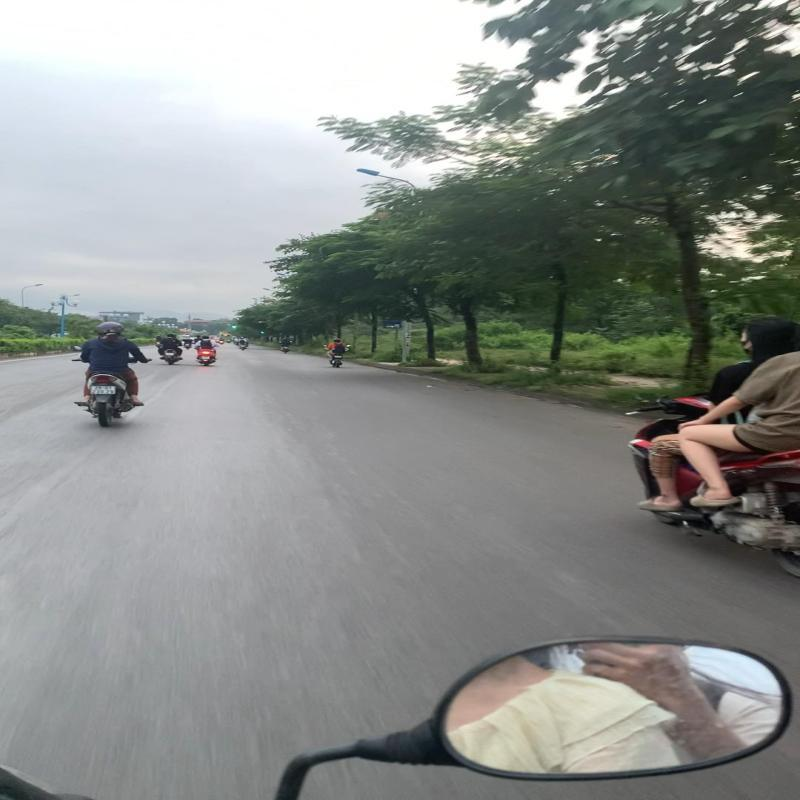motorcyclist: (621, 303, 798, 611)
nohelmet: (737, 312, 800, 361)
